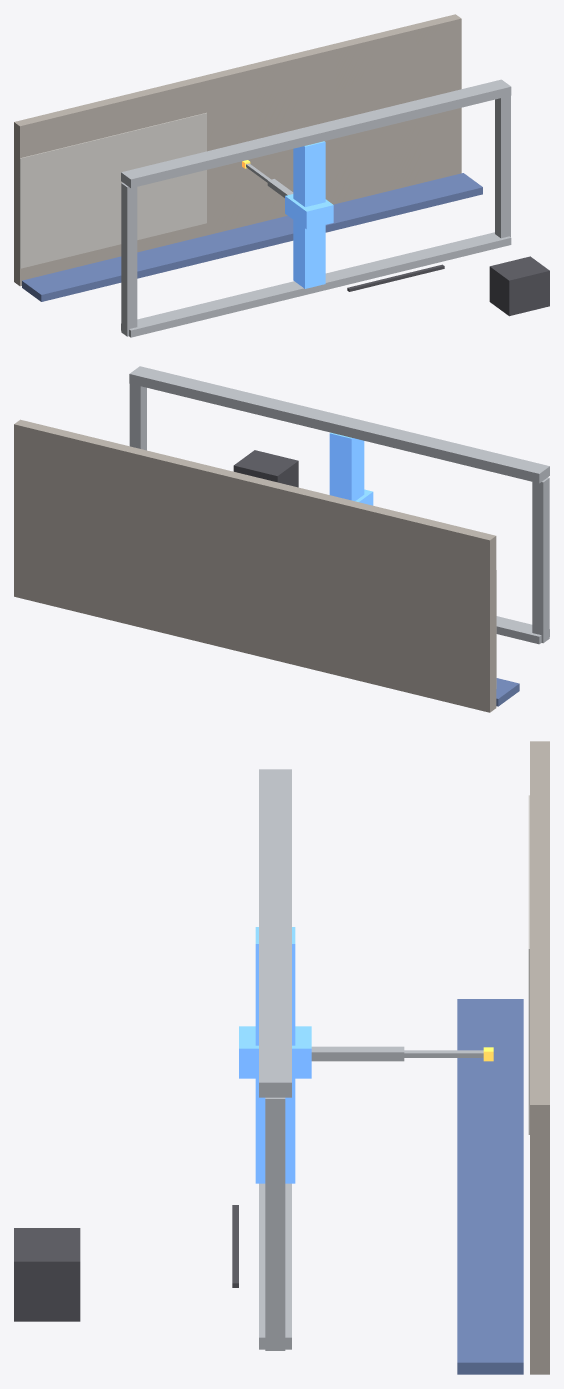
The model's file is wing-robot-pressure-washer.glb.
3 renders of one model, top to bottom at view 1: azimuth 30°, elevation 25°; view 2: azimuth 150°, elevation 25°; view 3: azimuth 270°, elevation 25°, orthographic. The views are drawn at different scales.
Parts seen in each view (by area): view 1: Robot · spray wand on a 3-axis carriage; view 2: Robot · spray wand on a 3-axis carriage; view 3: Robot · spray wand on a 3-axis carriage.
Part boxes in pixels (bbox=[...]): Robot · spray wand on a 3-axis carriage: bbox=[14, 14, 549, 337]; Robot · spray wand on a 3-axis carriage: bbox=[14, 366, 549, 712]; Robot · spray wand on a 3-axis carriage: bbox=[14, 741, 549, 1374].
Bounding box in the file's own units: 13 × 4.5 × 8.1.
